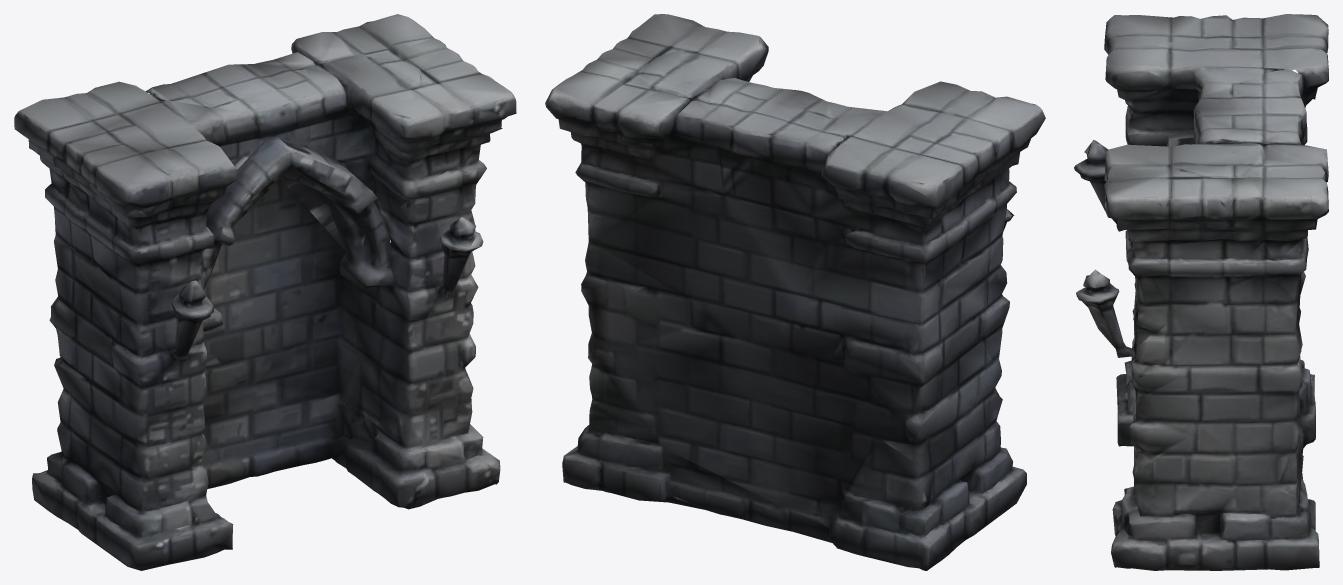
File: dunarch.glb
3 views of the same model, side by side, from view 1: azimuth 30°, elevation 25°; view 2: azimuth 150°, elevation 25°; view 3: azimuth 270°, elevation 25° (orthographic). The views are drawn at different scales.
Visible parts, largest first — view 1: tripo_node_beda02f4; view 2: tripo_node_beda02f4; view 3: tripo_node_beda02f4.
Boxes of the visible parts, x1=… form: tripo_node_beda02f4: x1=14, y1=14, x2=516, y2=570; tripo_node_beda02f4: x1=545, y1=14, x2=1045, y2=570; tripo_node_beda02f4: x1=1074, y1=14, x2=1328, y2=570.
Size of the model in its own units: 99.62 by 95.72 by 57.68.
1 material, 1 textured.
